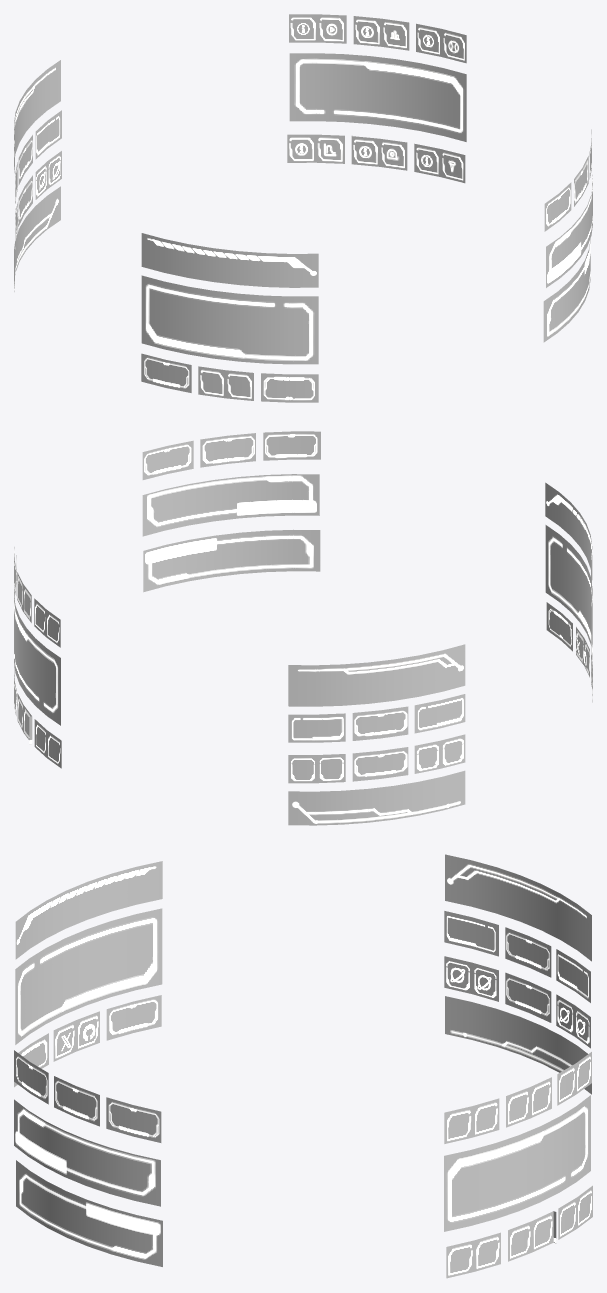
The model's file is infopanels.glb.
3 renders of one model, top to bottom at view 1: azimuth 30°, elevation 25°; view 2: azimuth 150°, elevation 25°; view 3: azimuth 270°, elevation 25°, orthographic. The views are drawn at different scales.
Visible parts, largest first — view 1: InfoPanels; view 2: InfoPanels; view 3: InfoPanels.
Boxes of the visible parts, x1=… form: InfoPanels: x1=14, y1=14, x2=592, y2=402; InfoPanels: x1=14, y1=431, x2=592, y2=825; InfoPanels: x1=14, y1=854, x2=592, y2=1278.
Bounding box in the file's own units: 9.43 × 3.2 × 9.34.
1 material, 1 textured.
